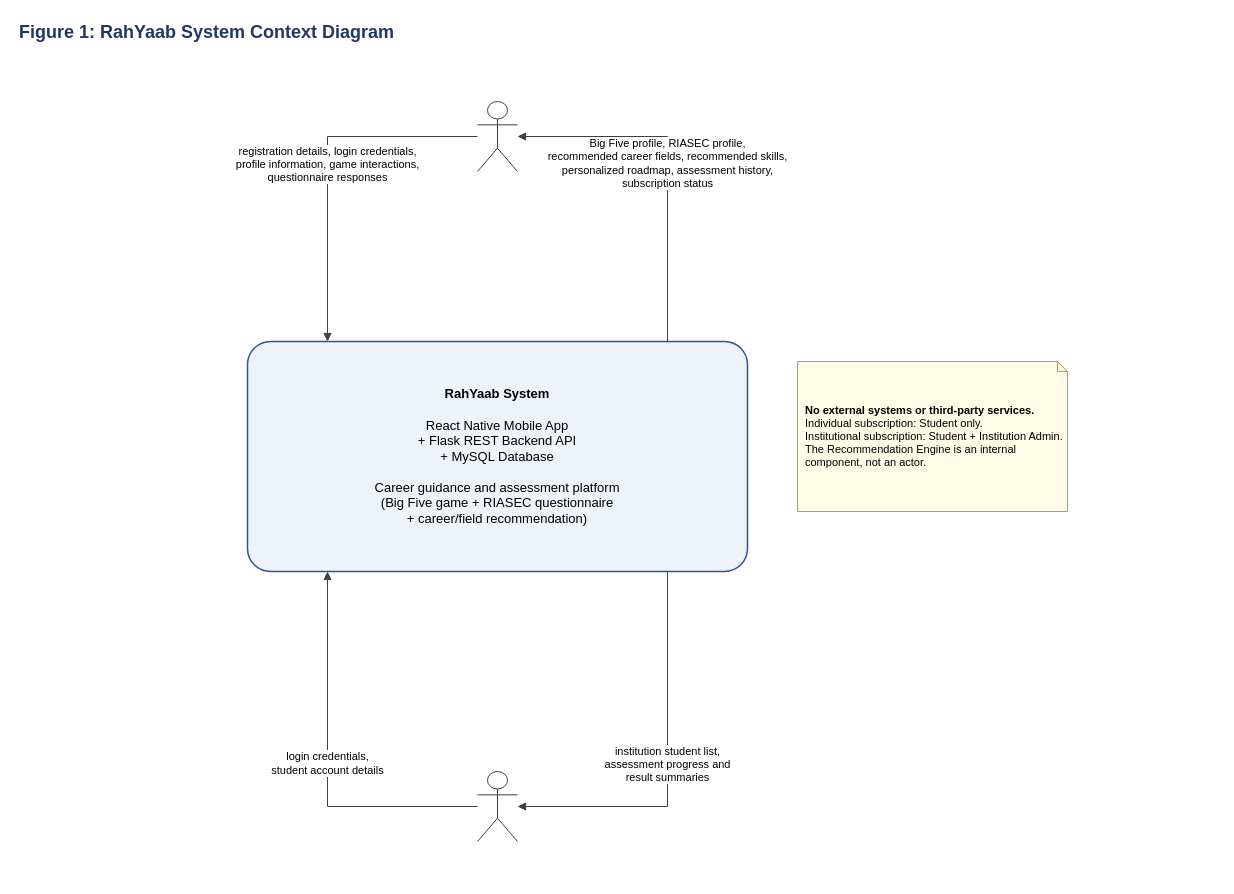
This 1234x894 diagram has some shape labels left out. Each missing label, with the box of its shape:
Institution Admin (institutional subscription only): (476, 770, 518, 842)
Student (Grade 9-12): (476, 100, 518, 172)
